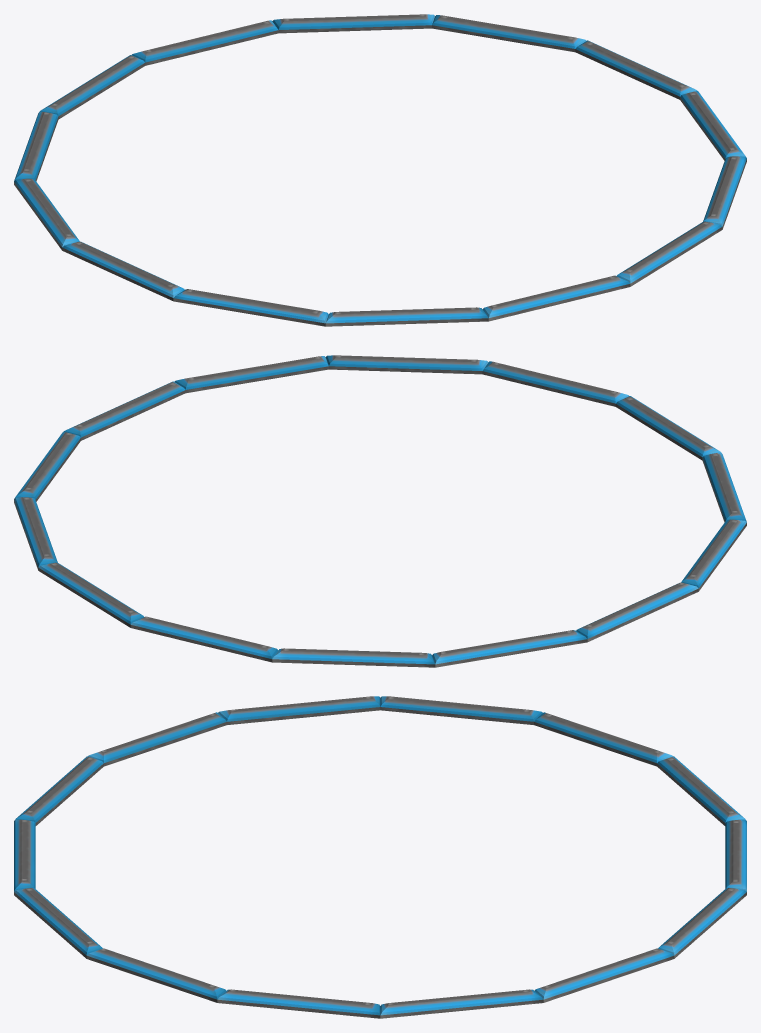
File: LEDcircle_medium.fbx
3 renders of one model, top to bottom at view 1: azimuth 30°, elevation 25°; view 2: azimuth 150°, elevation 25°; view 3: azimuth 270°, elevation 25°, orthographic. The views are drawn at different scales.
Visible parts, largest first — view 1: Tube_1; view 2: Tube_1; view 3: Tube_1.
Boxes of the visible parts, left/top/right/bottom form: Tube_1: left=14, top=14, right=746, bottom=326; Tube_1: left=14, top=355, right=746, bottom=667; Tube_1: left=14, top=696, right=746, bottom=1018.
Size of the model in its own units: 571 by 7.5 by 557.
1 material, 1 textured.
